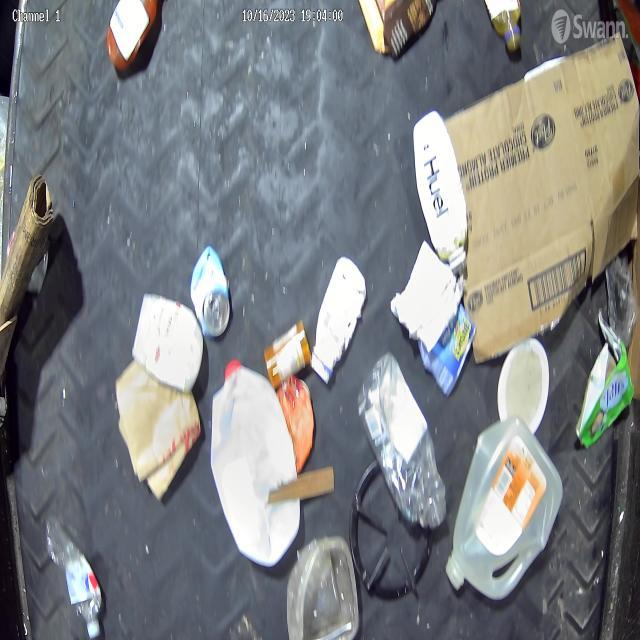can: (188, 246, 232, 340), (278, 374, 314, 472)
milk_jug: (445, 416, 565, 600), (210, 358, 301, 568), (133, 294, 204, 391)
plastic_bottle: (357, 354, 447, 528), (45, 513, 103, 640)
